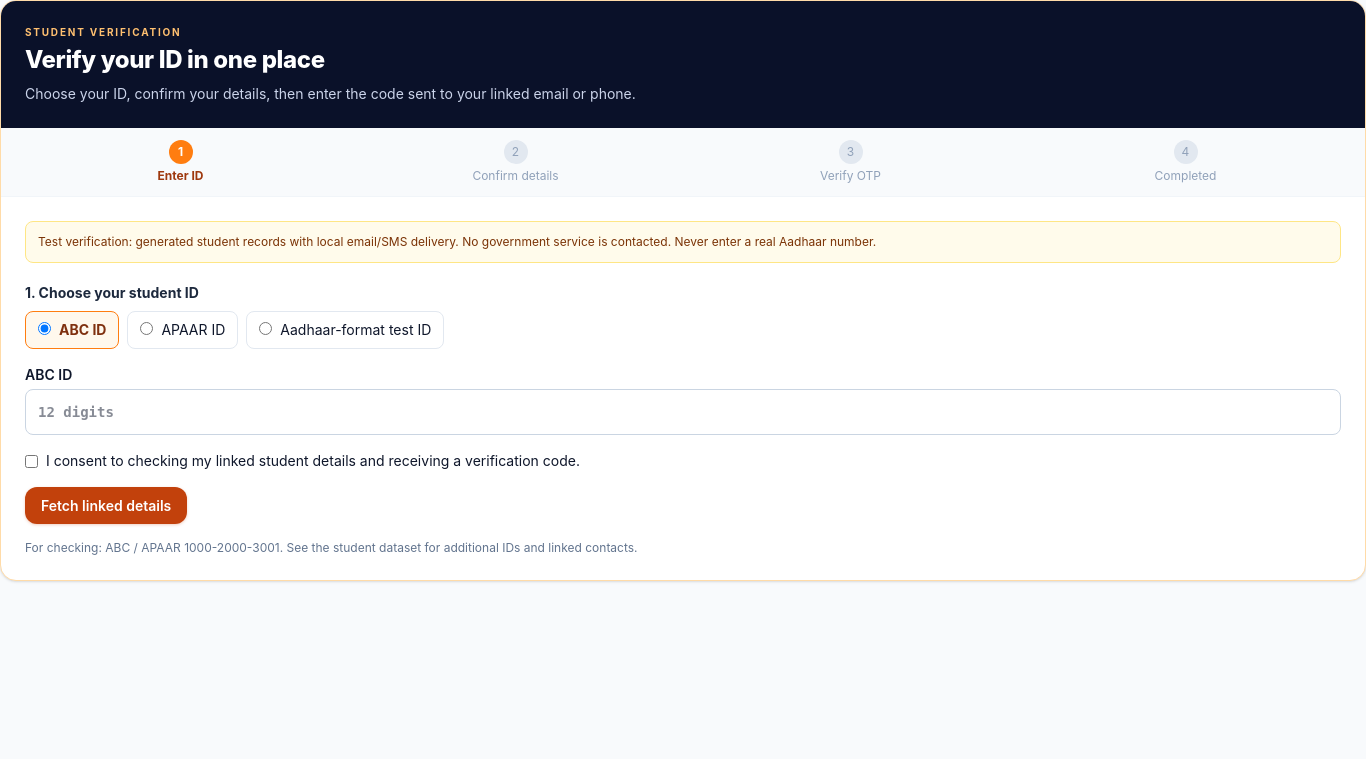
Scenario: [A-N99] incorrect OTP stays on the current page and never reports success or forwards to an officer
Type "100020003001" into the field named "Student ID number". click: (683, 412)
box: 25,389 -> 1341,435
Click the checkbox labelled "I consent to checking". click: (32, 462)
box: 25,455 -> 38,468
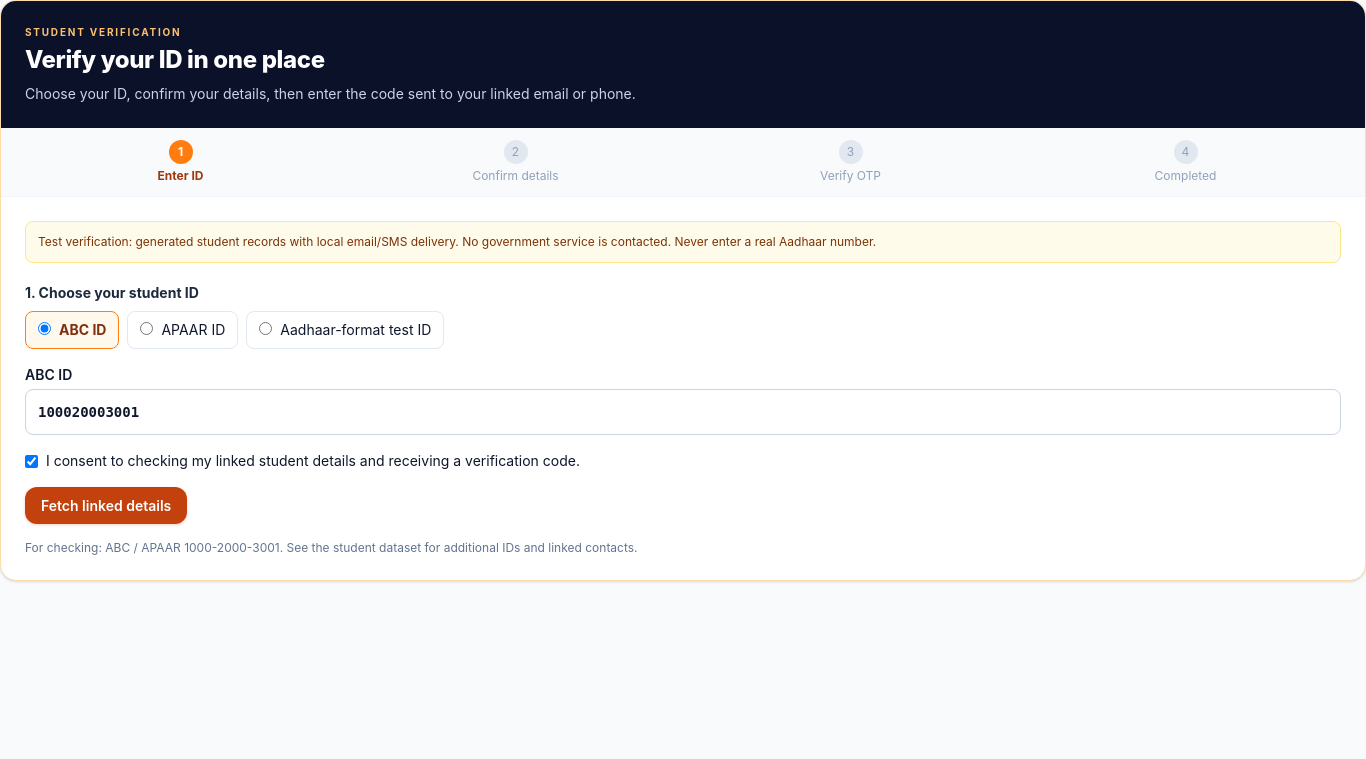
Click the button "Fetch linked details". click: (106, 506)
box: 25,487 -> 187,524
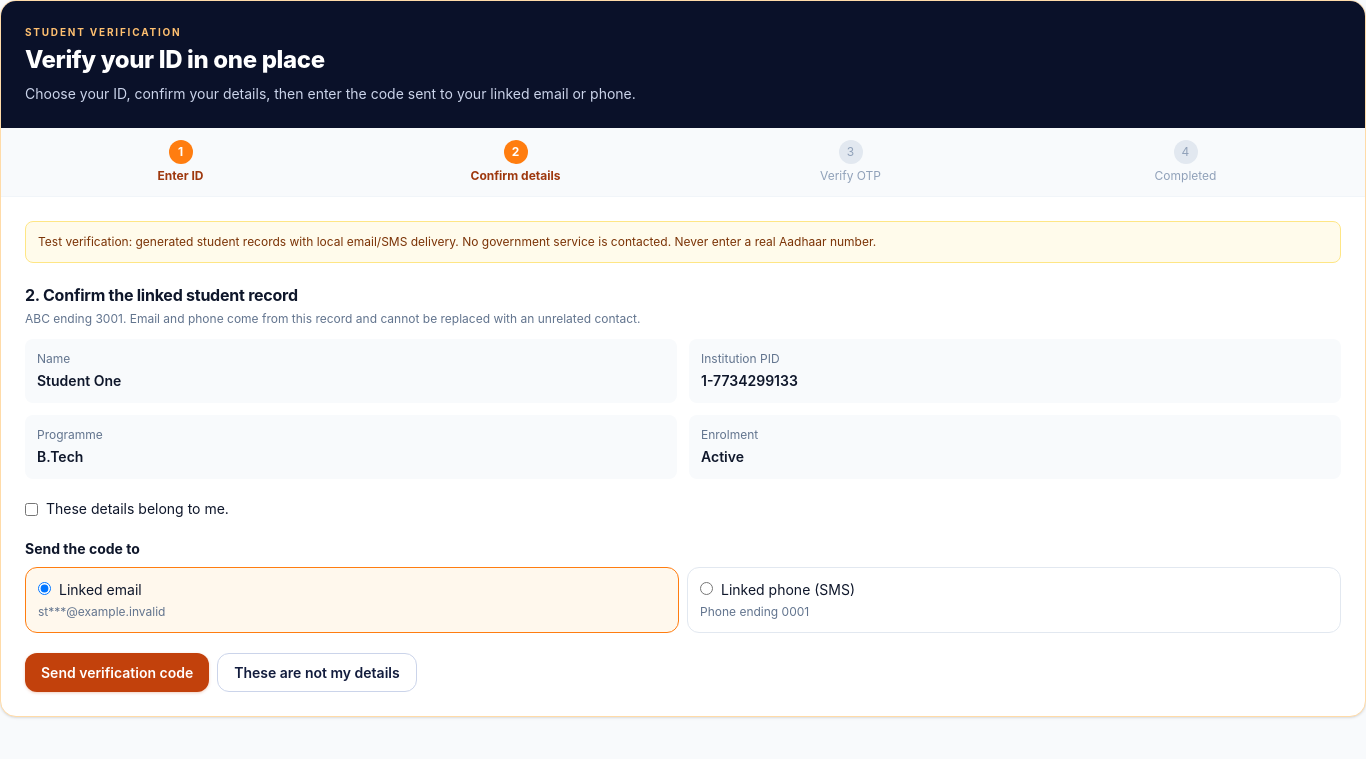
Expected: the text "Student One" is shown, 37,372 -> 121,389
Click the checkbox labelled "These details belong to me.". click: (32, 510)
box: 25,503 -> 38,516
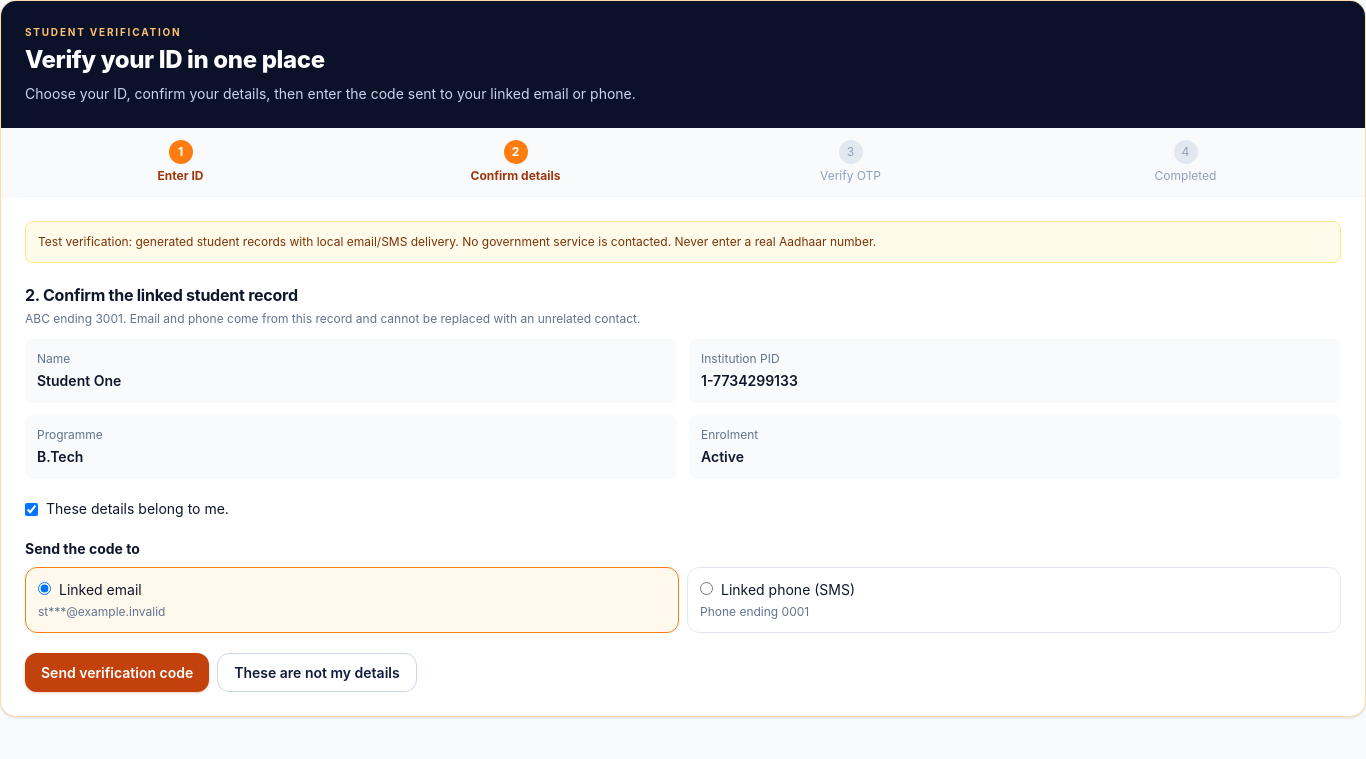
Click the button "Send verification code". click: (117, 672)
box: 25,653 -> 209,692
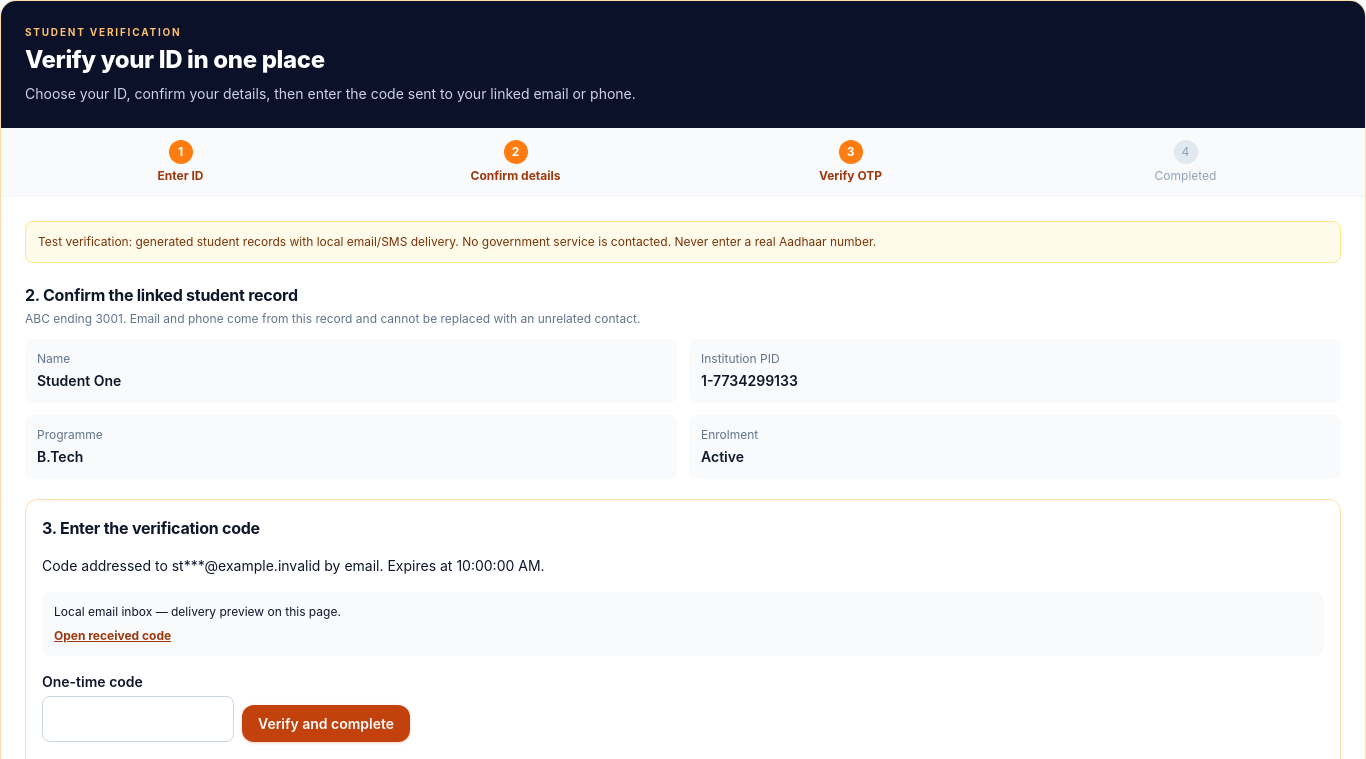
Expected: the button "Open received code" is shown, 54,628 -> 171,644
Type "000000" into the field labelled "One-time code". click: (138, 719)
box: 42,696 -> 234,742
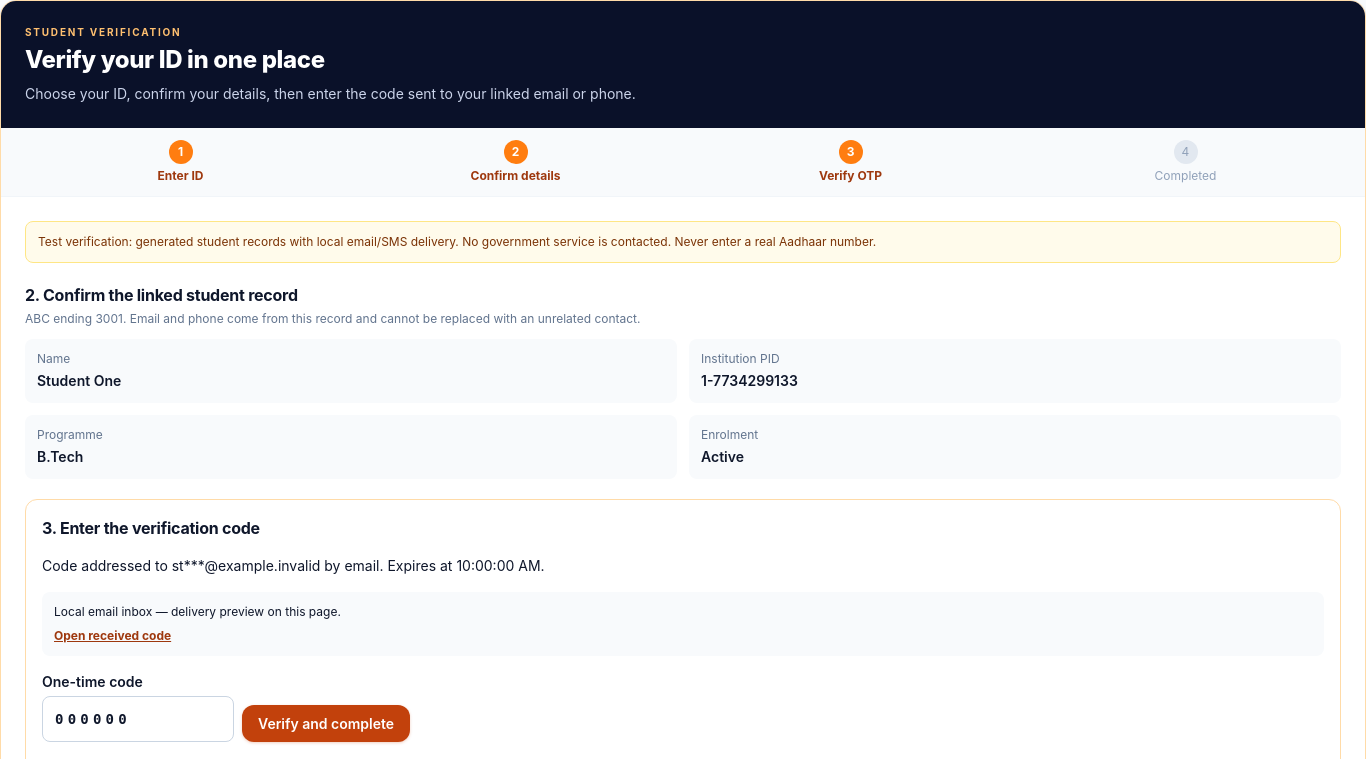
Click the button "Verify and complete". click: (326, 724)
box: 242,705 -> 410,742
(page scrolled)
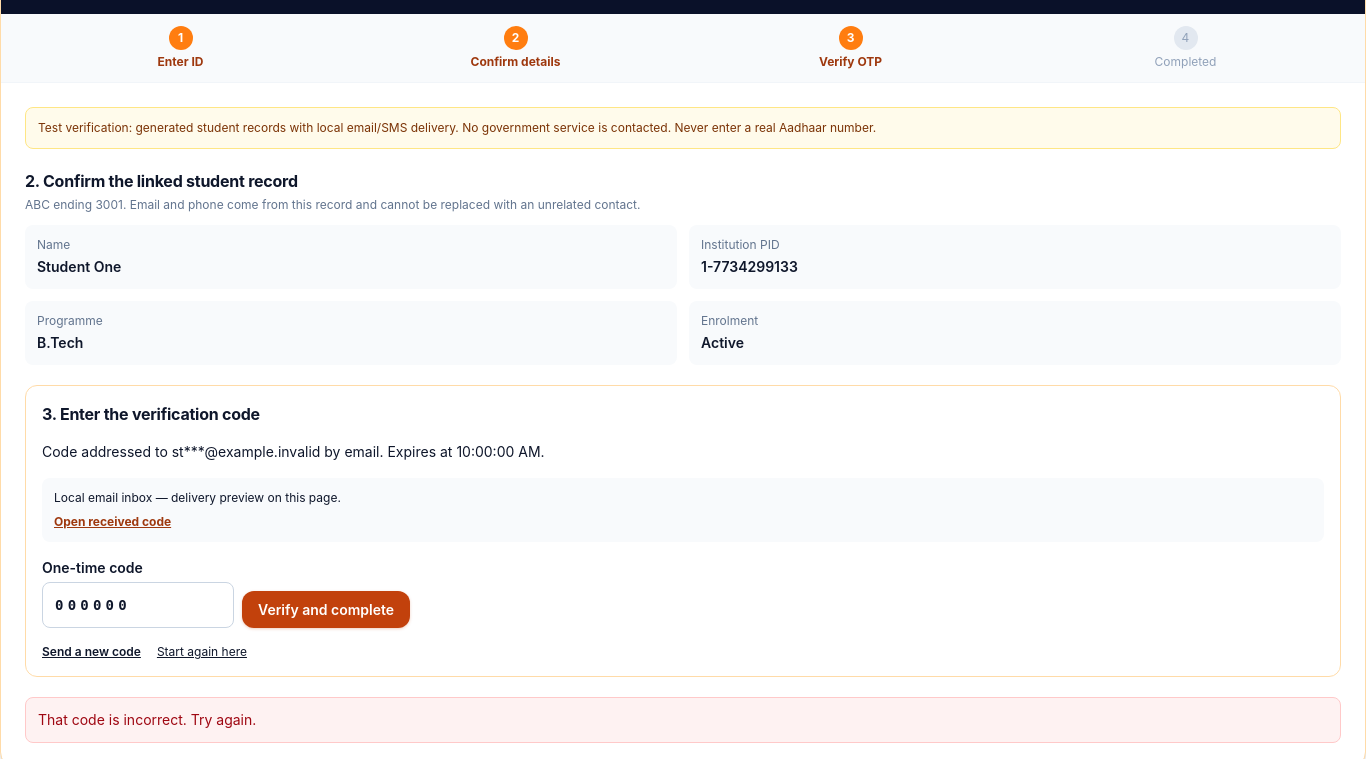
Expected: the message reads "That code is incorrect. Try again.", 38,711 -> 256,728
